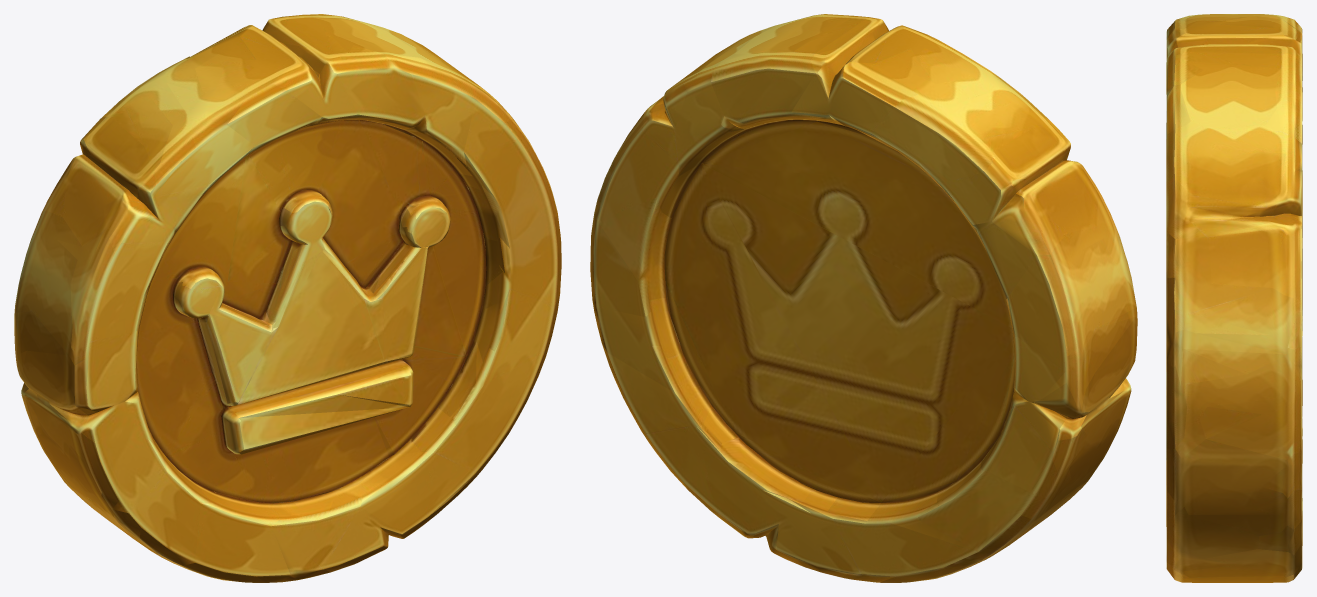
Rendered from coin.glb.
The picture shows the model from 3 angles, left to right: view 1: azimuth 30°, elevation 25°; view 2: azimuth 150°, elevation 25°; view 3: azimuth 270°, elevation 25°; orthographic projection.
Size of the model in its own units: 1.9 by 1.9 by 0.4551.
Materials: 1 (1 with a texture image).
